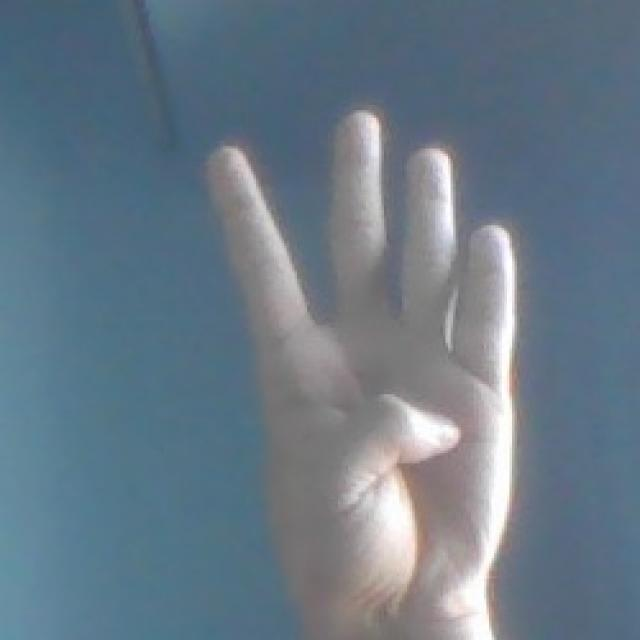Numeric-4: (205, 108, 523, 632)
